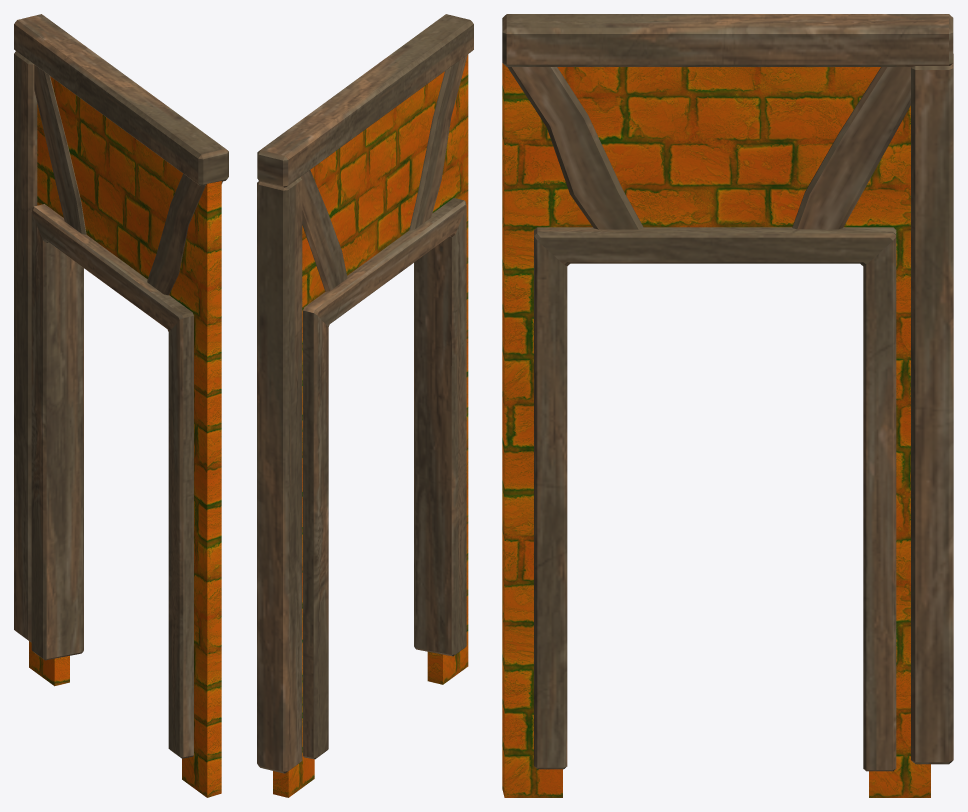
Rendered from SM_wall_24.fbx.
3 renders of one model, left to right at view 1: azimuth 30°, elevation 25°; view 2: azimuth 150°, elevation 25°; view 3: azimuth 270°, elevation 25°, orthographic. The views are drawn at different scales.
Visible parts, largest first — view 1: SM_wall_24_LOD0; view 2: SM_wall_24_LOD0; view 3: SM_wall_24_LOD0.
Boxes of the visible parts, left/top/right/bottom form: SM_wall_24_LOD0: left=14, top=14, right=228, bottom=797; SM_wall_24_LOD0: left=257, top=14, right=473, bottom=797; SM_wall_24_LOD0: left=502, top=14, right=953, bottom=797.
Size of the model in its own units: 26.73 by 212 by 400.
2 materials, 2 textured.
